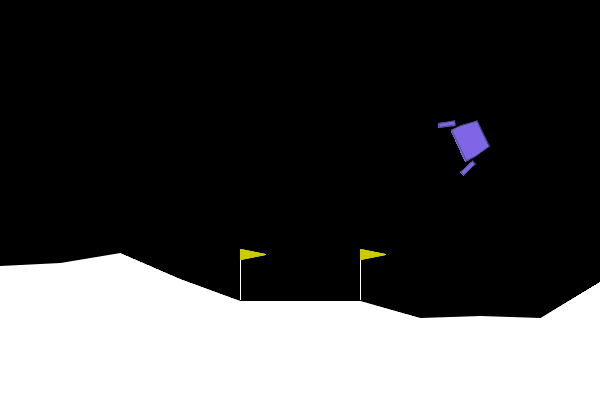lander: (436, 106, 498, 178)
